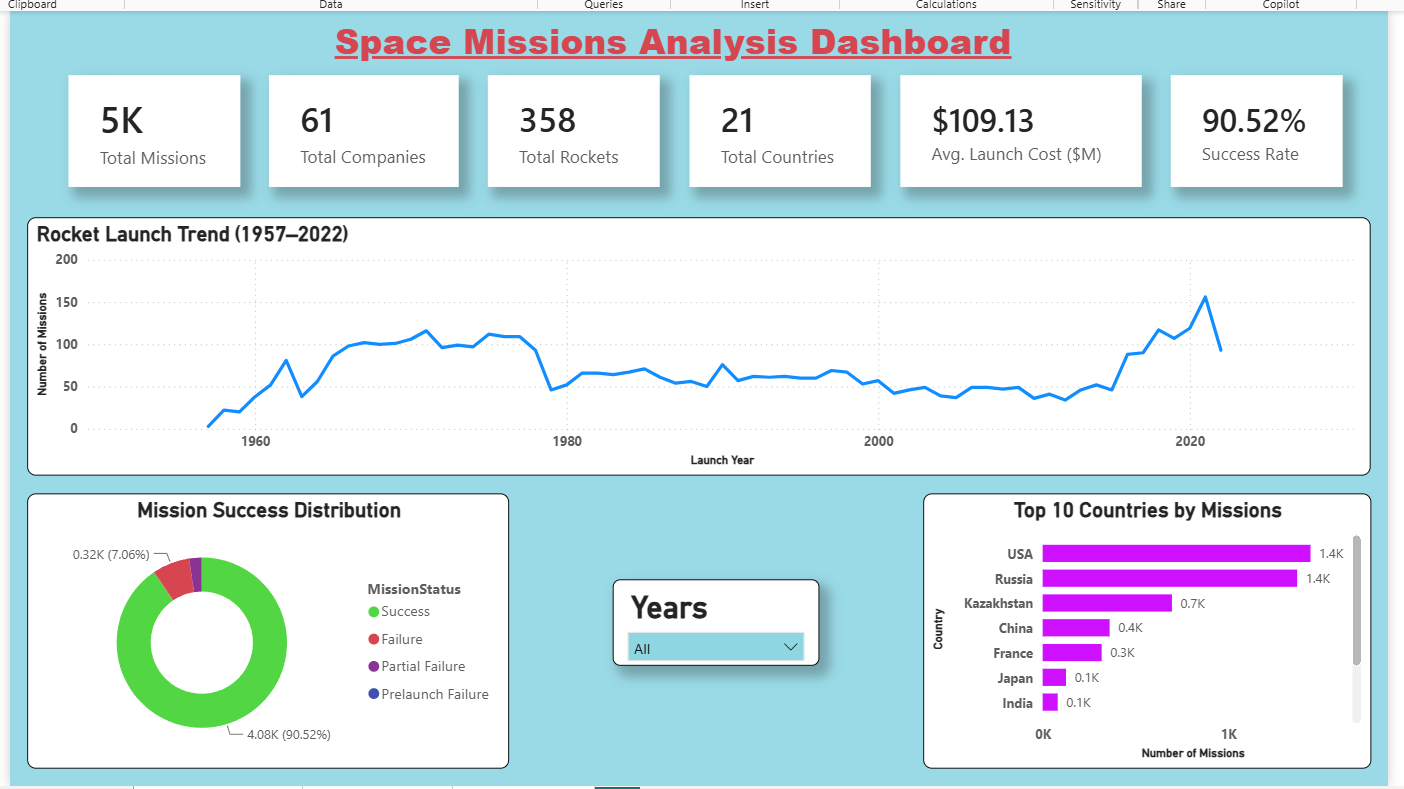

The dashboard page shown, as its layout file describes it:
{"tool":"powerbi","page":{"name":"Executive Summary","canvas":[1280,720],"ordinal":0},"visuals":[{"type":"textbox","box":[0,0,1232,64],"z":0},{"type":"cardVisual","fields":{"Data":["space_missions_feature_engineered.Total Missions"]},"box":[53.8,59.4,160,104],"z":1000},{"type":"cardVisual","fields":{"Data":["space_missions_feature_engineered.Total Rockets"]},"box":[444.2,59.4,160,104],"z":2000},{"type":"cardVisual","fields":{"Data":["space_missions_feature_engineered.Total Companies"]},"box":[241,59.4,176,104],"z":3000},{"type":"cardVisual","fields":{"Data":["space_missions_feature_engineered.Average Launch Cost"]},"box":[826.6,59.4,224,104],"z":4000},{"type":"cardVisual","fields":{"Data":["space_missions_feature_engineered.Total Countries"]},"box":[631.4,59.4,168,104],"z":5000},{"type":"cardVisual","fields":{"Data":["space_missions_feature_engineered.Success Rate"]},"box":[1077.8,59.4,160,104],"z":6000},{"type":"lineChart","title":"Rocket Launch Trend (1957–2022)","fields":{"Category":["space_missions_feature_engineered.Launch_Year"],"Y":["CountNonNull(space_missions_feature_engineered.Mission)"]},"box":[16,192,1248,240],"z":7000},{"type":"donutChart","title":"Mission Success Distribution","fields":{"Category":["space_missions_feature_engineered.MissionStatus"],"Y":["CountNonNull(space_missions_feature_engineered.Mission)"]},"box":[16,448,448,256],"z":8000},{"type":"clusteredBarChart","title":"Top 10 Countries by Missions","fields":{"Category":["space_missions_feature_engineered.Country"],"Y":["CountNonNull(space_missions_feature_engineered.Mission)"]},"box":[848,448,416,256],"z":9000},{"type":"slicer","fields":{"Values":["space_missions_feature_engineered.Launch_Year","space_missions_feature_engineered.Country","space_missions_feature_engineered.Company","space_missions_feature_engineered.Rocket","space_missions_feature_engineered.MissionStatus"]},"box":[560,528,192,80],"z":9001}]}

Visuals, with their boxes in screenshot pixels (x1, y1, x2, y2):
textbox: [4, 7, 1336, 77]
cardVisual - space_missions_feature_engineered.Total Missions: [62, 72, 235, 184]
cardVisual - space_missions_feature_engineered.Total Rockets: [484, 72, 657, 184]
cardVisual - space_missions_feature_engineered.Total Companies: [264, 72, 455, 184]
cardVisual - space_missions_feature_engineered.Average Launch Cost: [898, 72, 1140, 184]
cardVisual - space_missions_feature_engineered.Total Countries: [687, 72, 868, 184]
cardVisual - space_missions_feature_engineered.Success Rate: [1170, 72, 1343, 184]
"Rocket Launch Trend (1957–2022)" lineChart: [21, 215, 1371, 475]
"Mission Success Distribution" donutChart: [21, 492, 506, 769]
"Top 10 Countries by Missions" clusteredBarChart: [921, 492, 1371, 769]
slicer - space_missions_feature_engineered.Launch_Year x space_missions_feature_engineered.Country: [609, 578, 817, 665]
